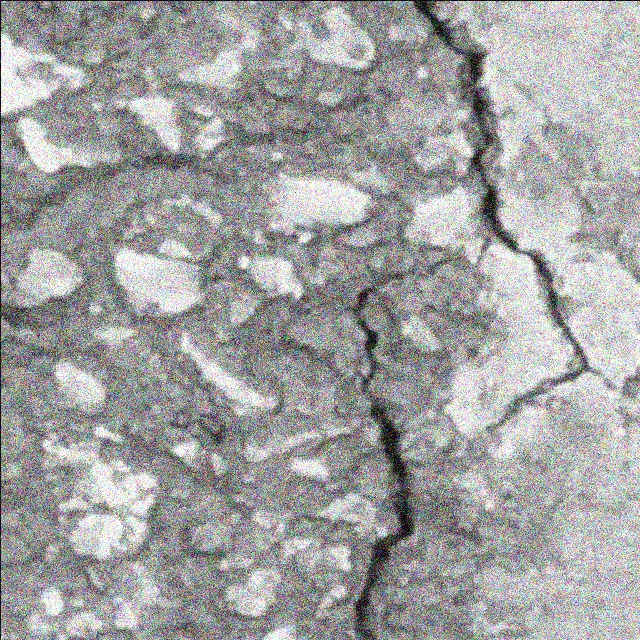SurfaceCrack: (273, 1, 640, 640)
